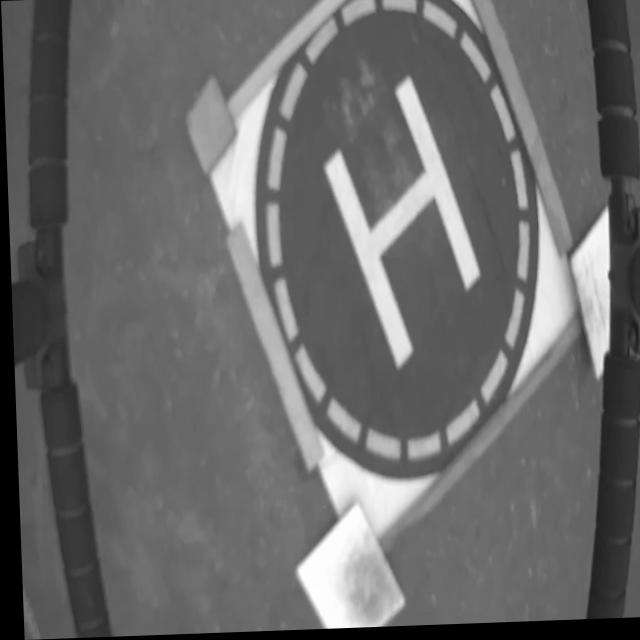Helipad: (321, 76, 478, 370)
